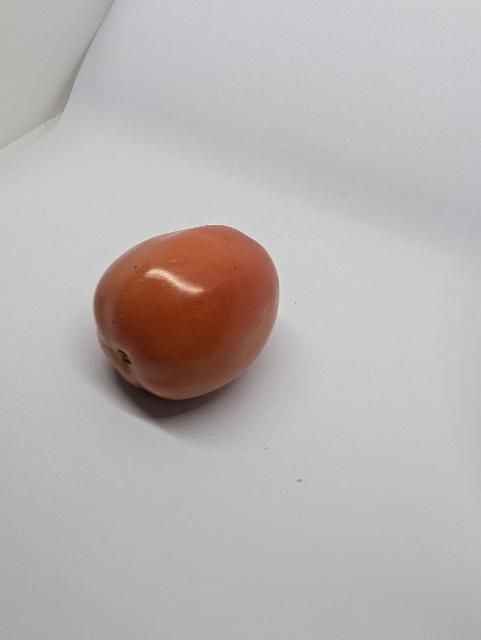red: (75, 213, 298, 413)
